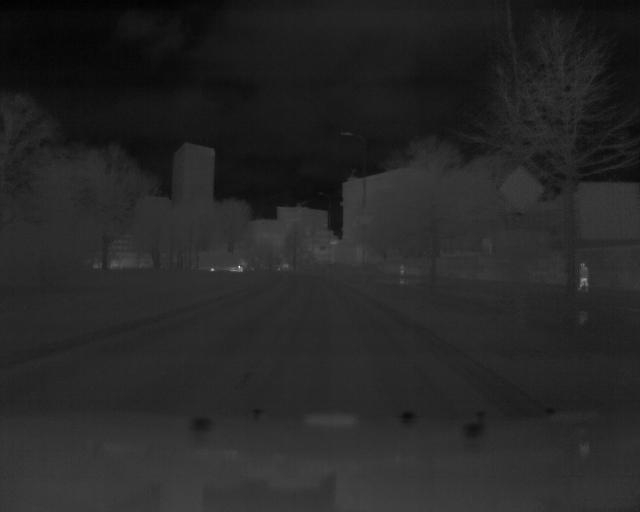person: (577, 258, 590, 292)
